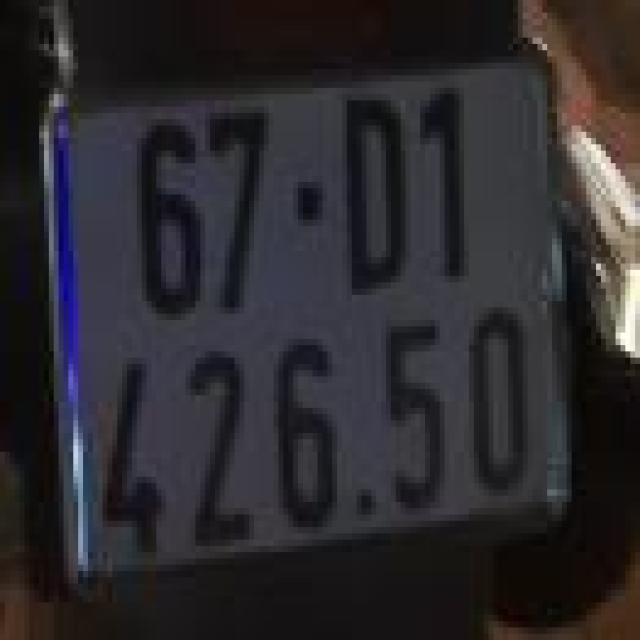0: (462, 308, 540, 496)
1: (415, 85, 484, 292)
2: (186, 332, 254, 558)
4: (90, 345, 178, 571)
5: (376, 298, 464, 524)
6: (264, 323, 342, 537), (132, 113, 210, 326)
7: (213, 110, 271, 310)
D: (325, 81, 418, 295)
